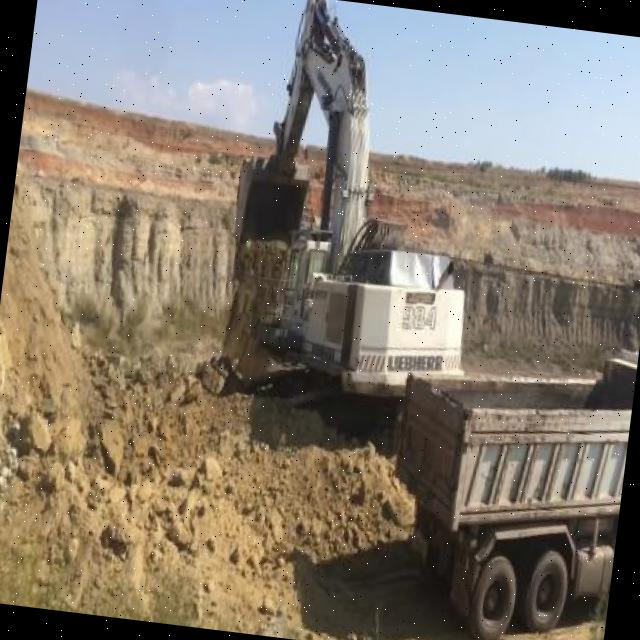Dump Truck: (376, 316, 639, 640)
Excavator: (208, 0, 505, 417)
